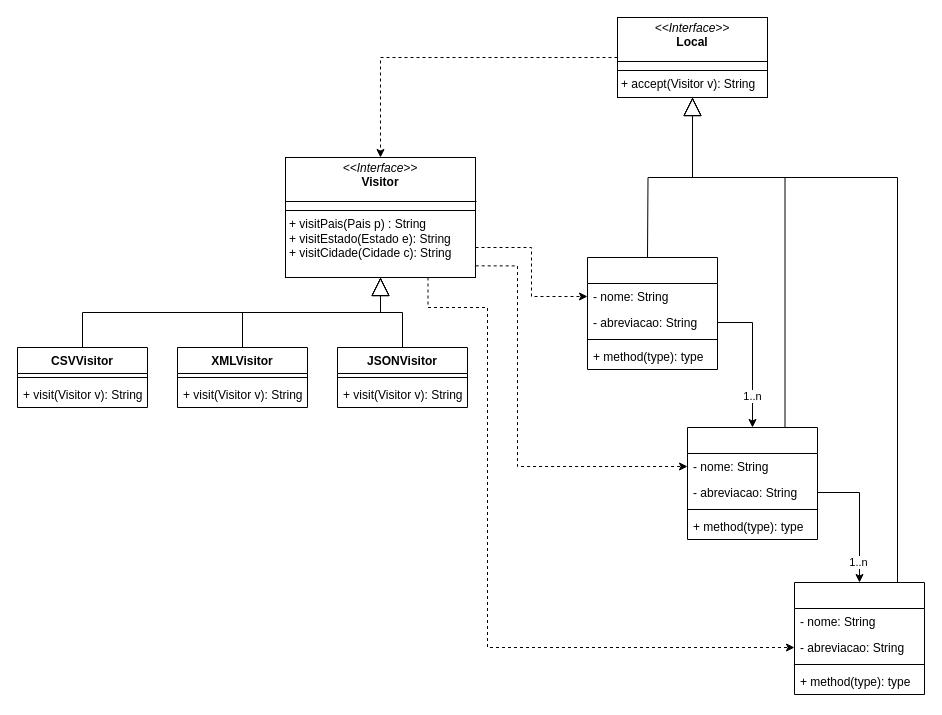
Some shapes in this 942 by 715 pixel diagram are drawn without their labels. The shapes that lost their labels are listed below. From the top down, each one's box as (x1, y1, x2, y2) in pixels, then its label:
(586, 256, 718, 370): Pais
(686, 426, 818, 540): Estado
(794, 582, 924, 694): Cidade
